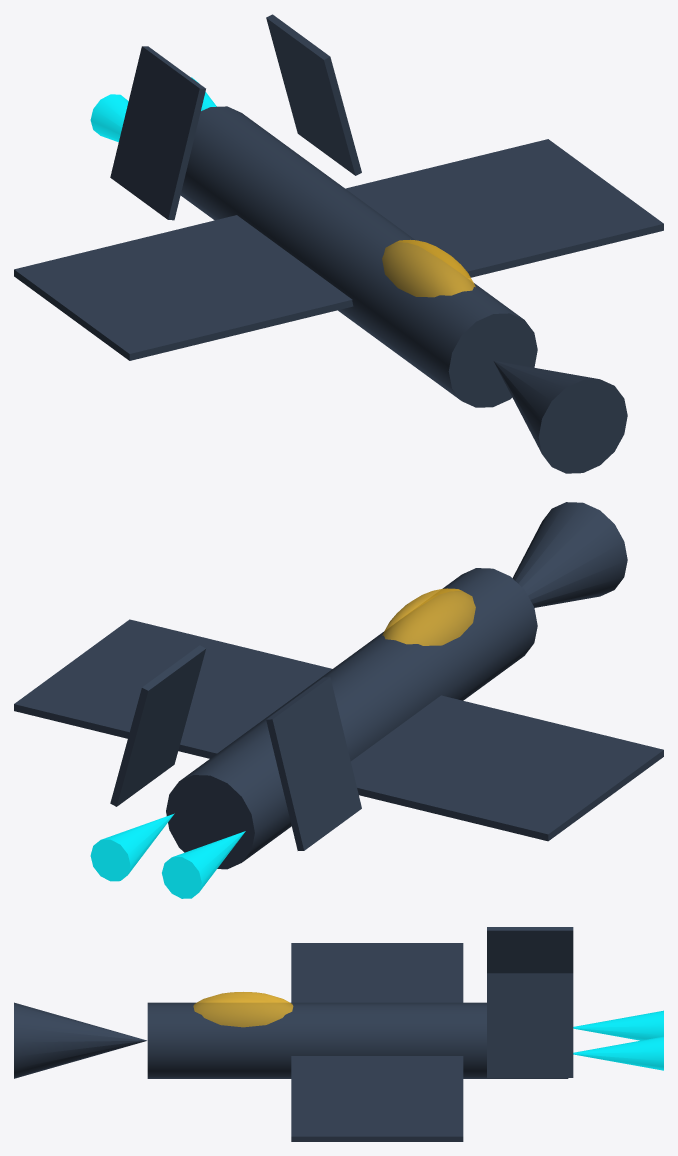
File: fighter.glb
3 renders of one model, top to bottom at view 1: azimuth 30°, elevation 25°; view 2: azimuth 150°, elevation 25°; view 3: azimuth 270°, elevation 25°, orthographic. The views are drawn at different scales.
Bounding box in the file's own units: 0.7059 × 0.2116 × 1.
